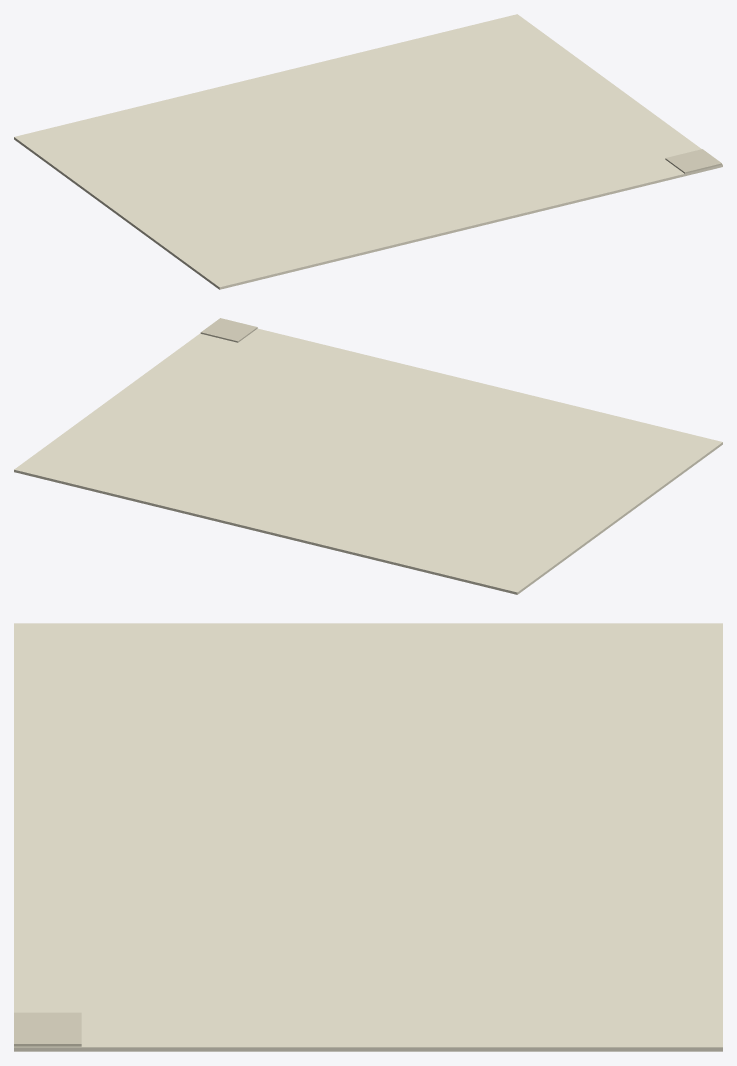
The model's file is paper_sheet.glb.
3 renders of one model, top to bottom at view 1: azimuth 30°, elevation 25°; view 2: azimuth 150°, elevation 25°; view 3: azimuth 270°, elevation 25°, orthographic. The views are drawn at different scales.
Parts seen in each view (by area): view 1: paper_sheet; view 2: paper_sheet; view 3: paper_sheet.
Boxes of the visible parts, x1,y1,x2,y2 form: paper_sheet: (14, 14, 722, 289); paper_sheet: (14, 318, 722, 594); paper_sheet: (14, 623, 722, 1051).
Bounding box in the file's own units: 0.297 × 0.0022 × 0.21.
